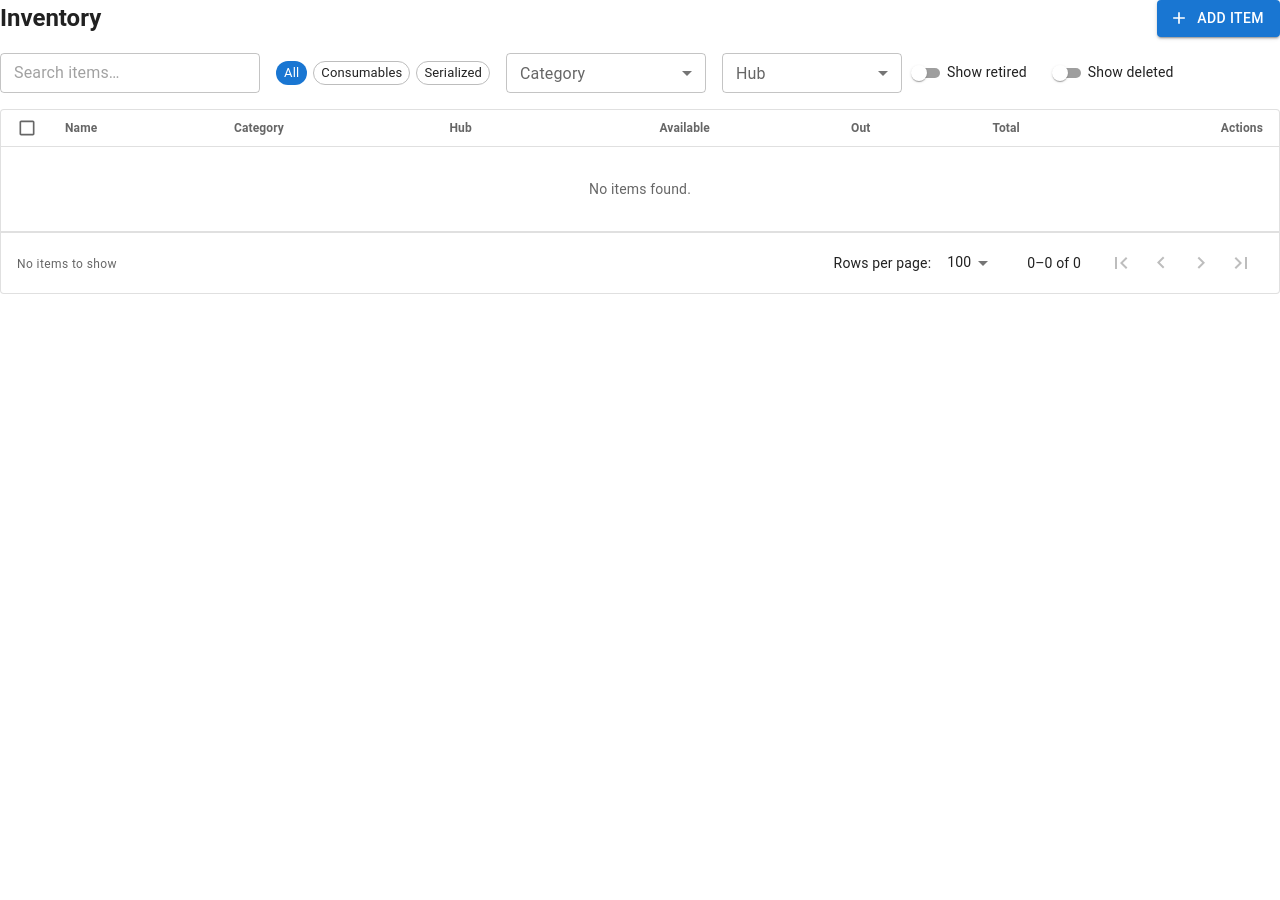
Scenario: UXP-6 (6c): item form — grammar › labels hubs "name · city, state"
This screenshot has width=1280, height=900.
Check: the text "No items found." is shown, box [1,146,1279,231]
Click the button "Add Item" at [1219, 18], box [1157,0,1279,36]
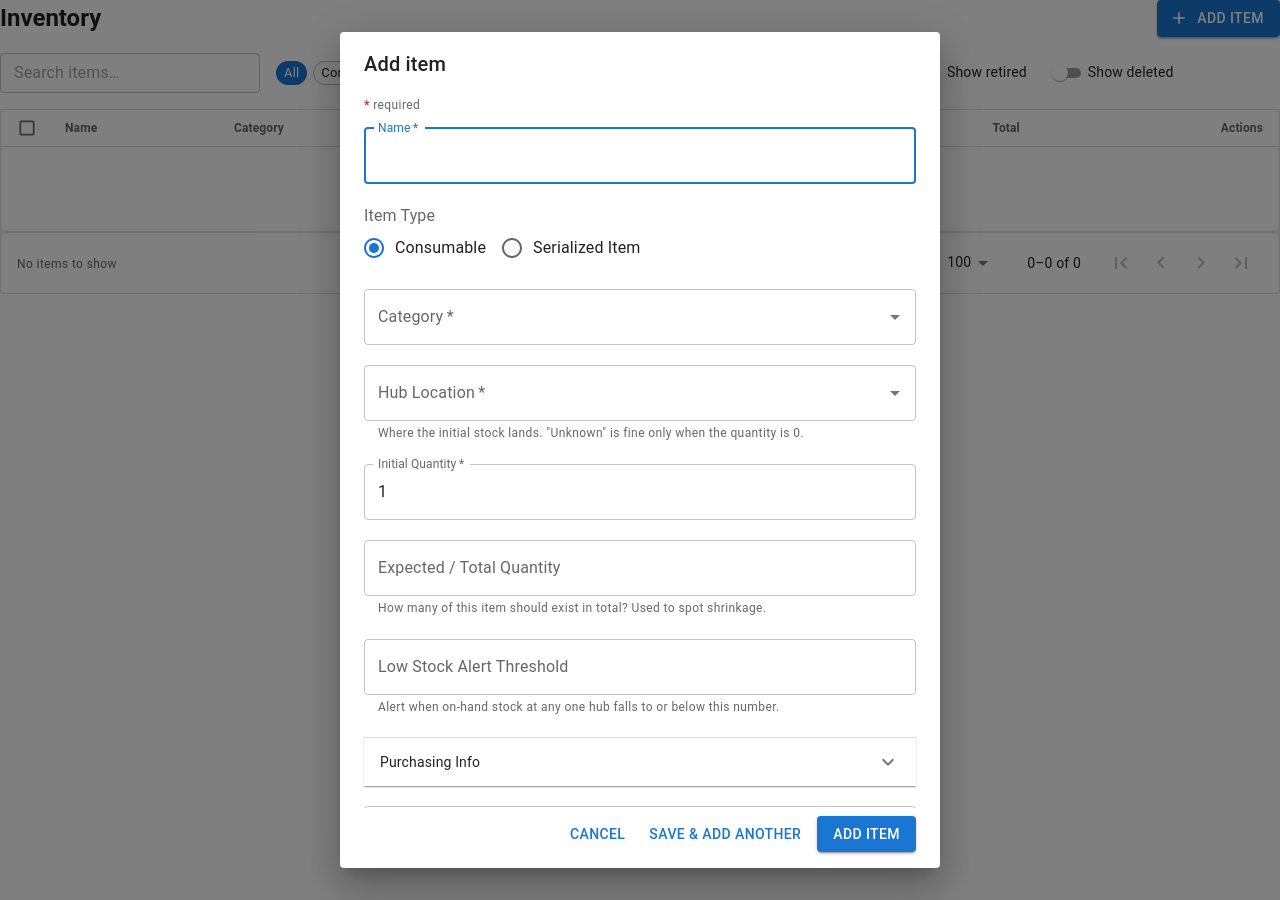
Press the mouse on the dropdown labelled "Hub Location *" at [625, 393], box [373,374,877,412]
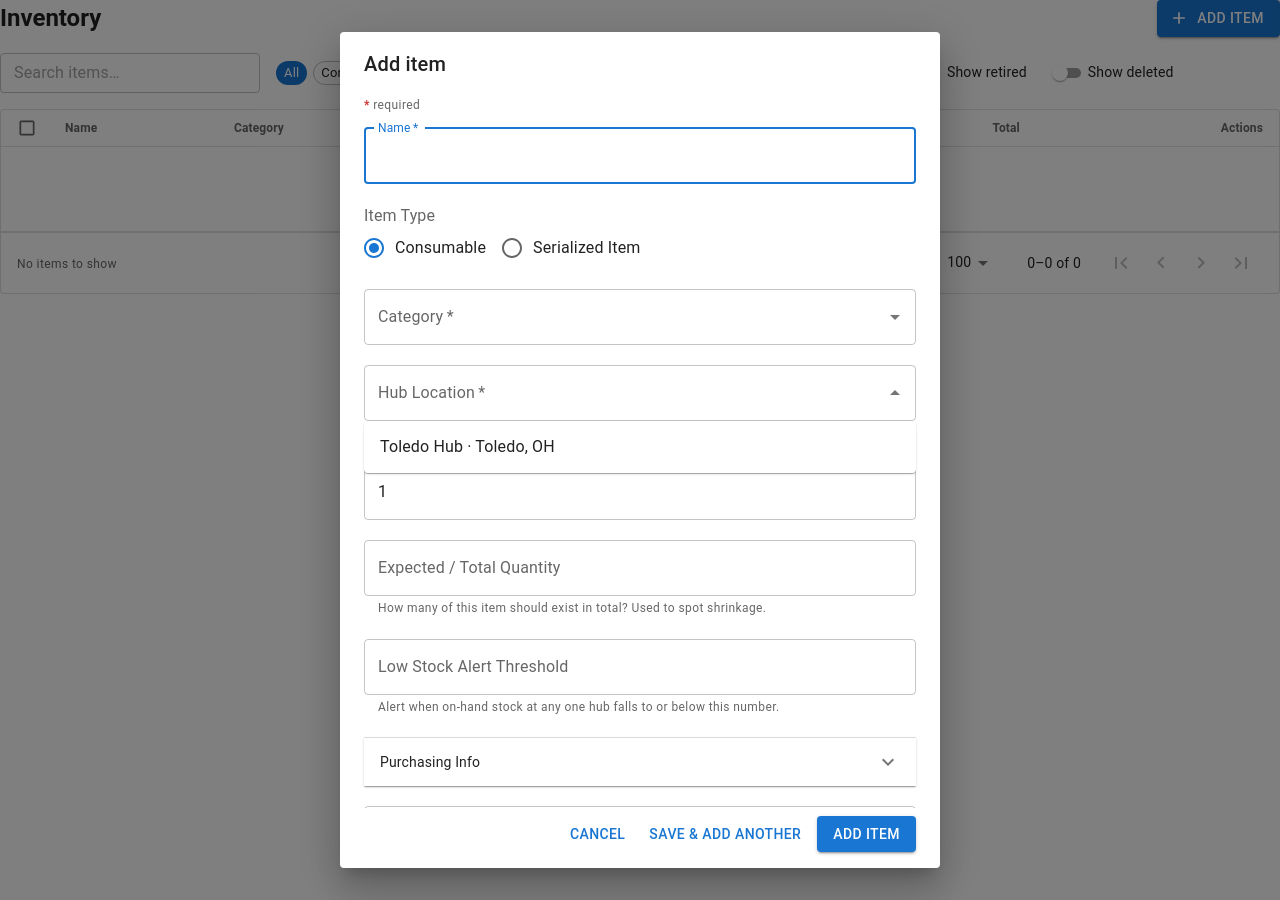
Check: the option "Toledo Hub · Toledo, OH" is shown, box [380,437,555,456]
